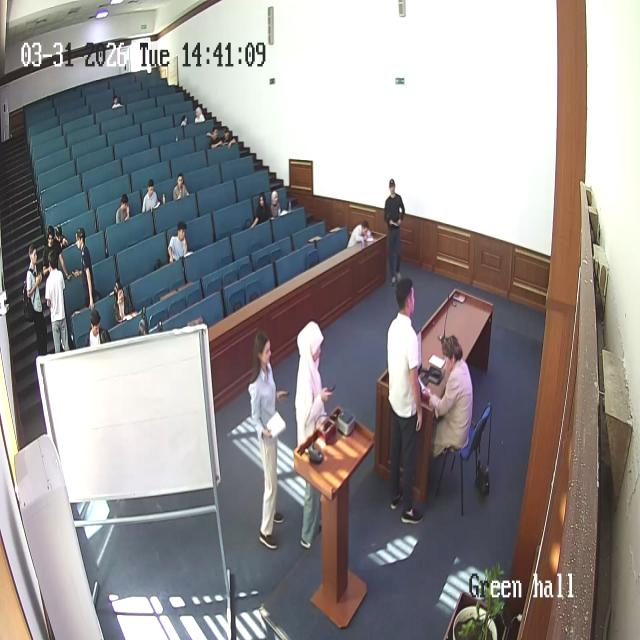person: (386, 277, 426, 521), (294, 321, 334, 547), (247, 328, 287, 549), (425, 332, 473, 464), (43, 245, 70, 351), (24, 245, 50, 353), (382, 178, 405, 286), (74, 226, 96, 312), (44, 225, 66, 281), (167, 219, 190, 264), (112, 280, 134, 324), (347, 219, 373, 249), (88, 310, 108, 347), (252, 192, 270, 228), (114, 191, 132, 223), (142, 179, 158, 213), (269, 188, 286, 218), (219, 122, 236, 152), (206, 126, 226, 150), (172, 172, 189, 200), (53, 212, 65, 250), (178, 110, 190, 132), (194, 104, 206, 124), (111, 95, 123, 109)
